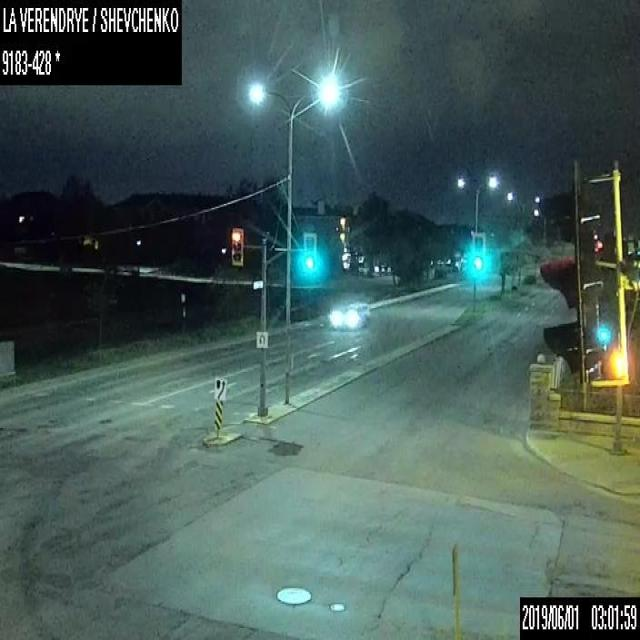vehicle: (328, 300, 369, 328)
